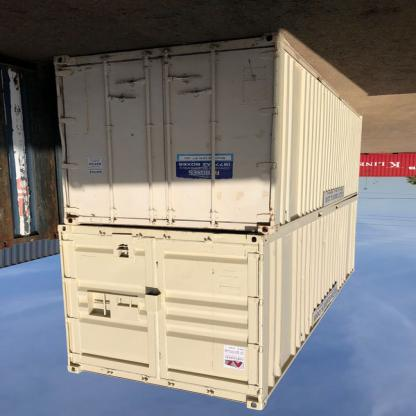Damage: (234, 52, 278, 108), (68, 64, 98, 138), (201, 264, 240, 296), (209, 189, 274, 205), (211, 128, 272, 144)
